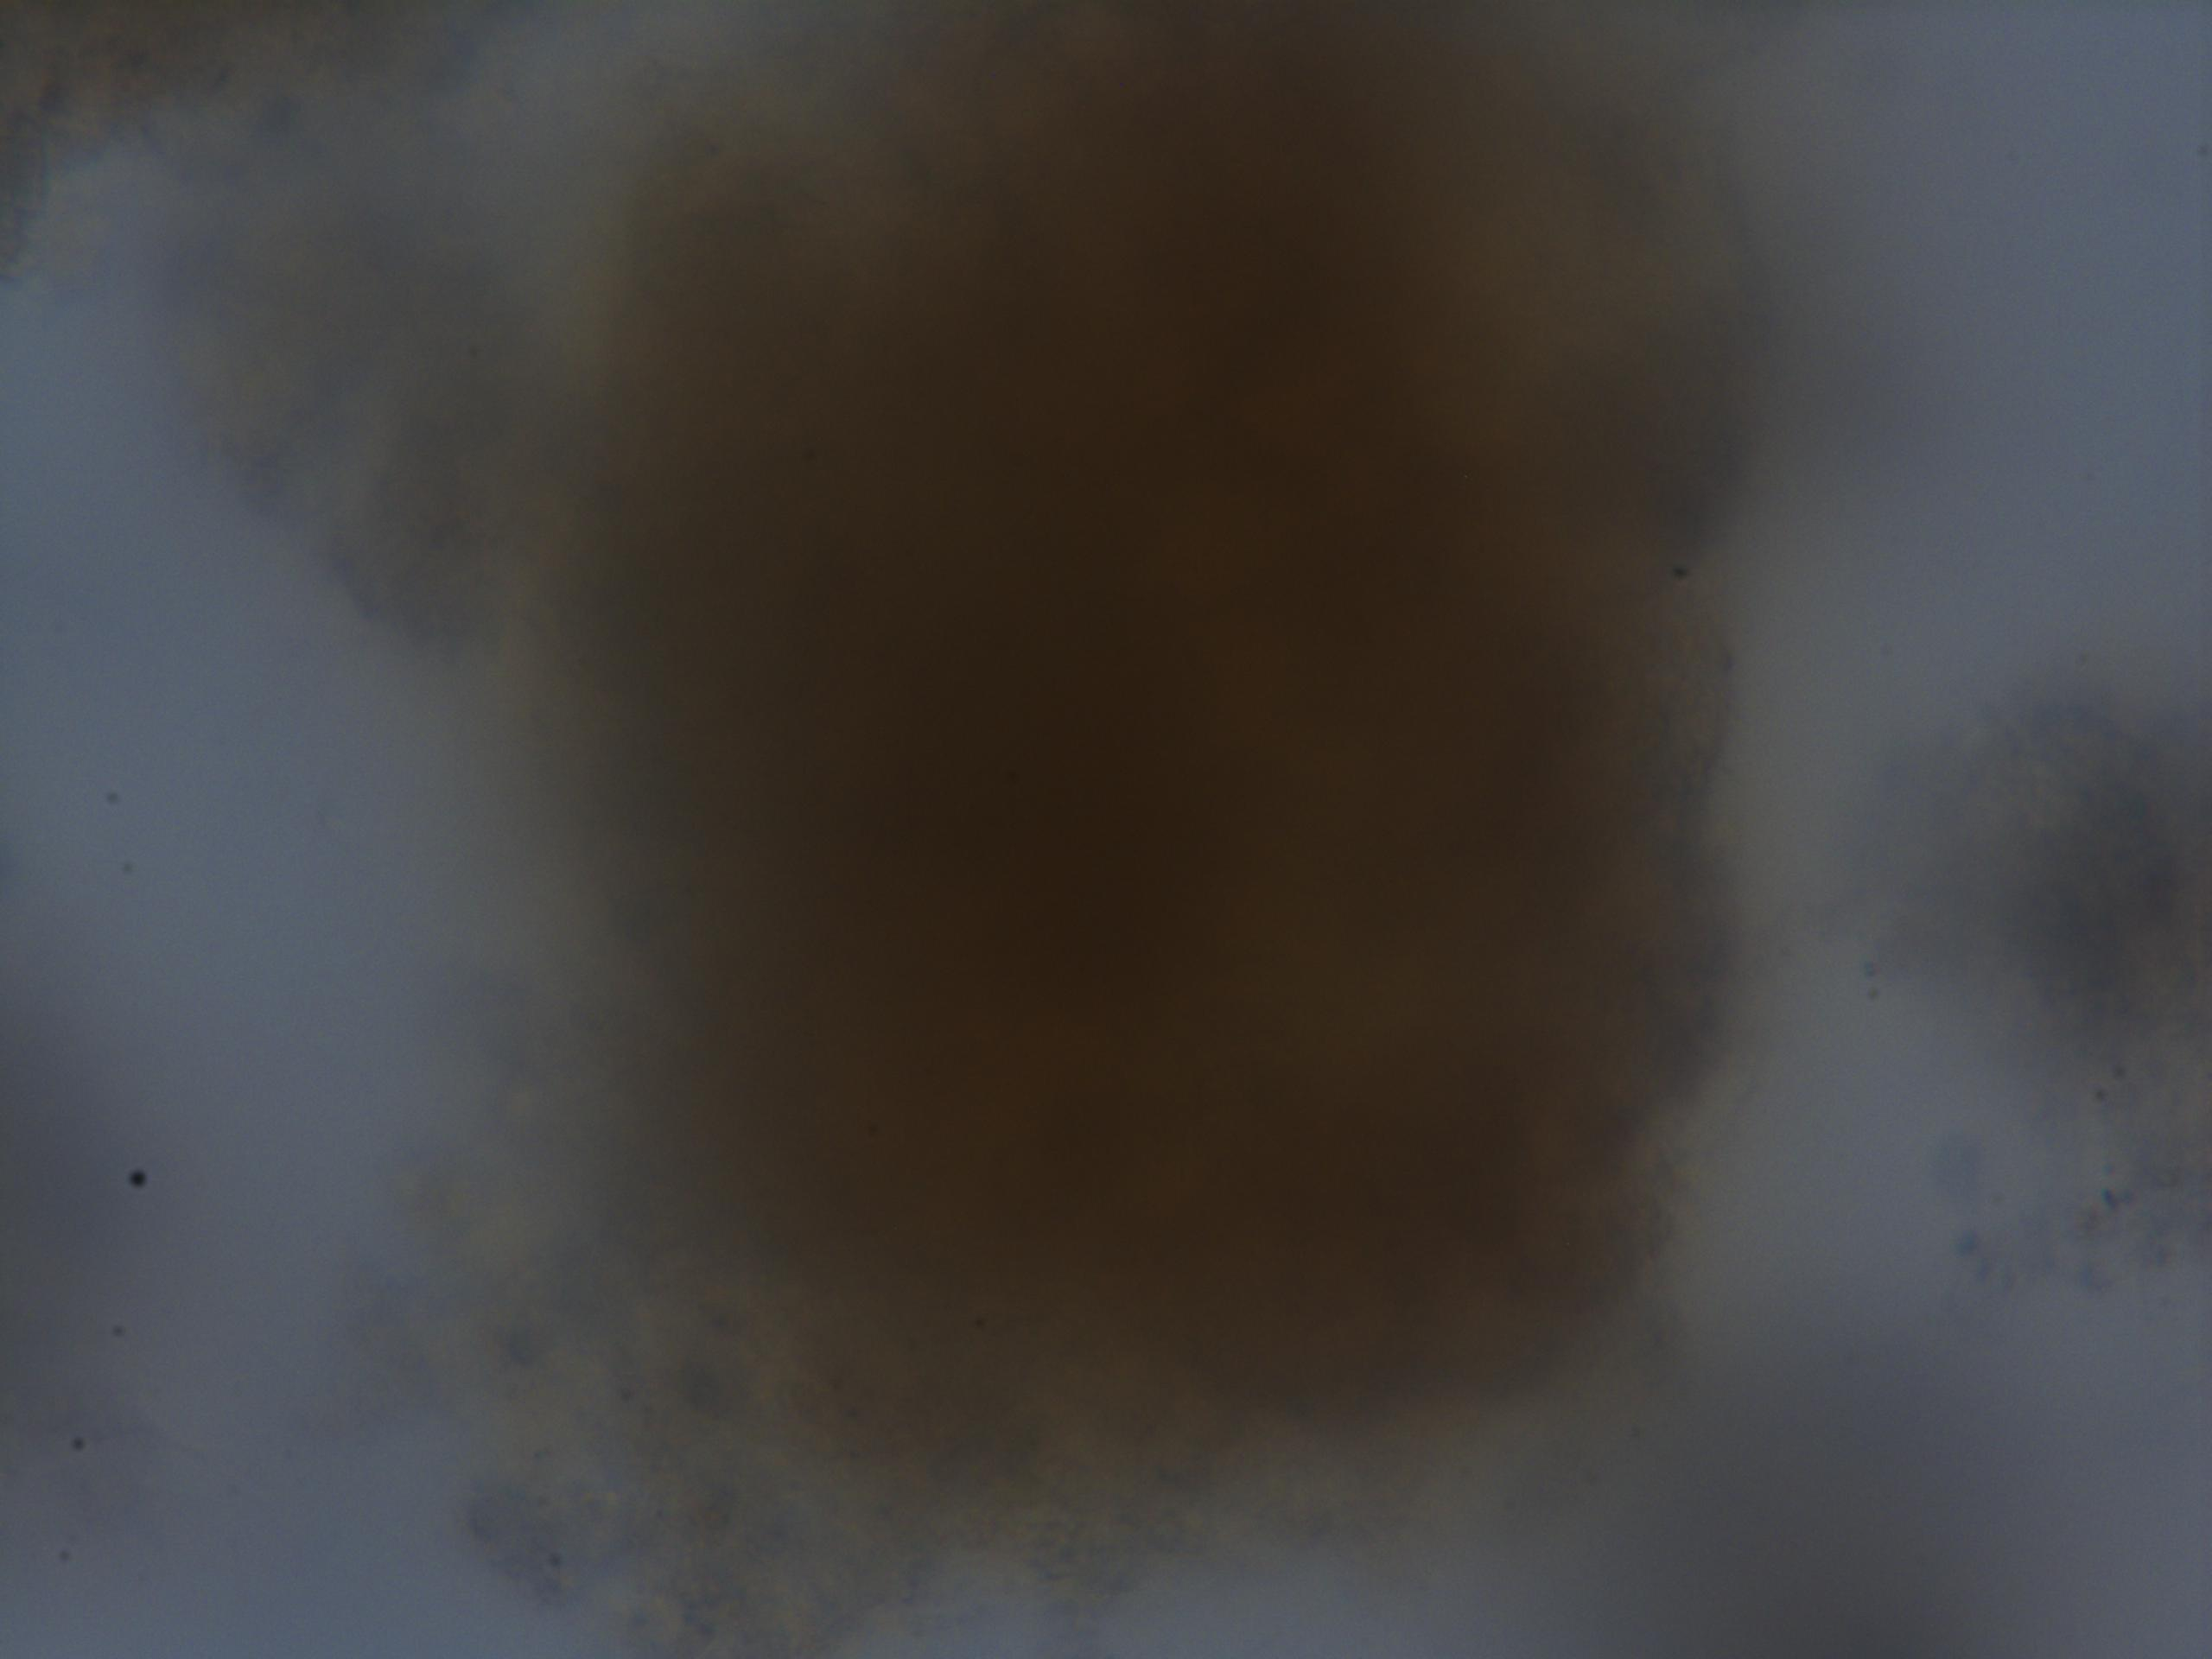spherical_floc: (498, 0, 1780, 1595)
